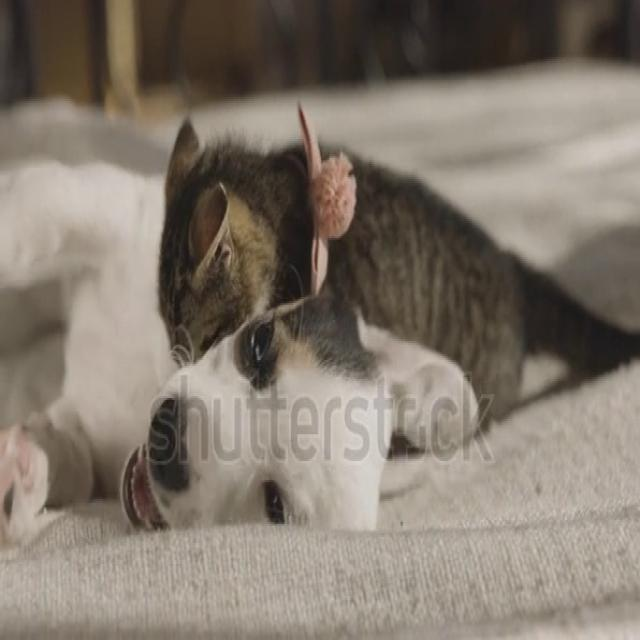normal_animals: (29, 79, 620, 640)
